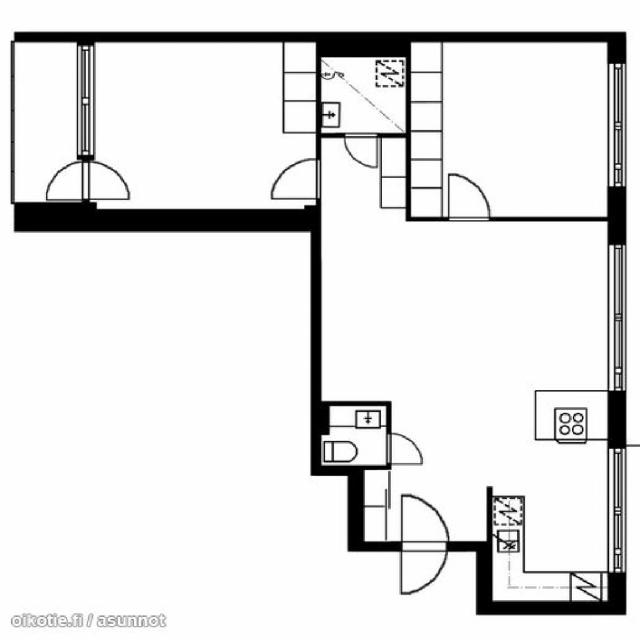door: (402, 541, 448, 595), (402, 498, 448, 551), (37, 162, 94, 200), (77, 162, 134, 200), (274, 160, 321, 199), (448, 178, 489, 221), (344, 133, 377, 168), (386, 434, 423, 464)
